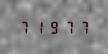nine: (46, 20, 59, 34)
one: (32, 20, 45, 34)
seven: (18, 20, 31, 34), (60, 20, 73, 34), (74, 20, 87, 34)
